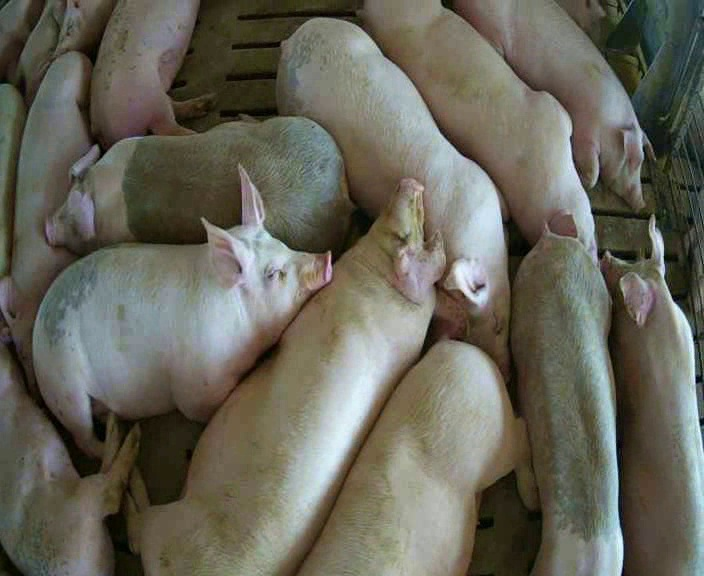pig: (126, 180, 444, 573), (33, 168, 330, 455), (276, 19, 509, 382), (360, 3, 595, 258), (299, 340, 536, 573), (46, 113, 353, 253), (453, 2, 653, 208), (511, 229, 622, 574), (601, 217, 703, 574), (0, 51, 91, 390), (91, 2, 217, 148), (40, 1, 114, 75)
